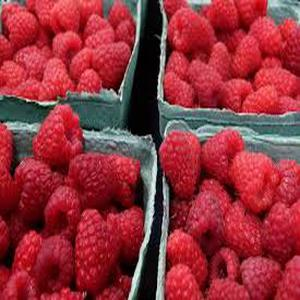raspb: (164, 138, 298, 298)
